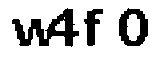0: (117, 6, 150, 47)
4: (49, 7, 82, 48)
f: (82, 6, 104, 48)
w: (8, 15, 55, 49)
